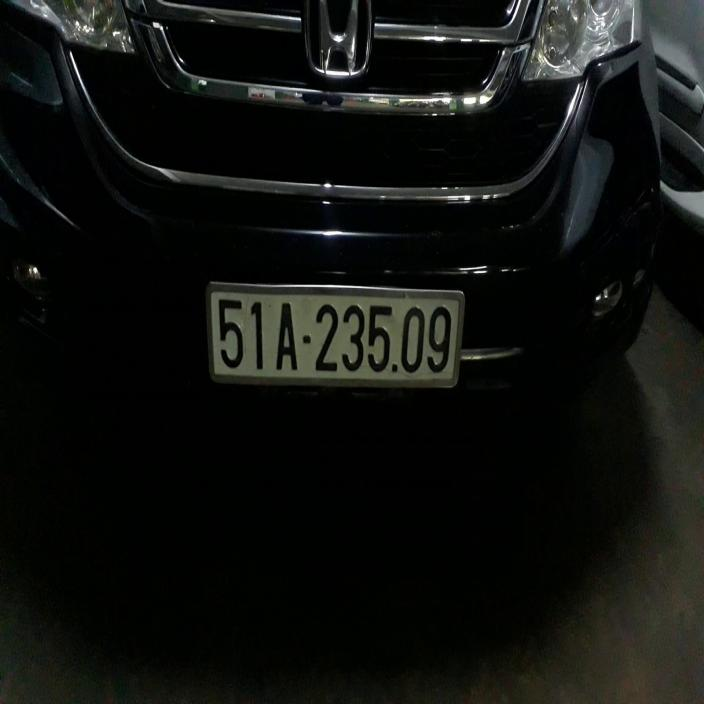numplate: (213, 274, 486, 400)
